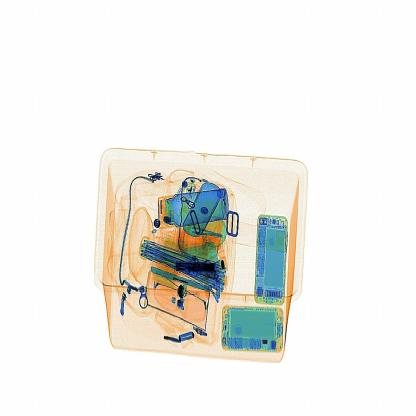scissors: (177, 252, 228, 288)
